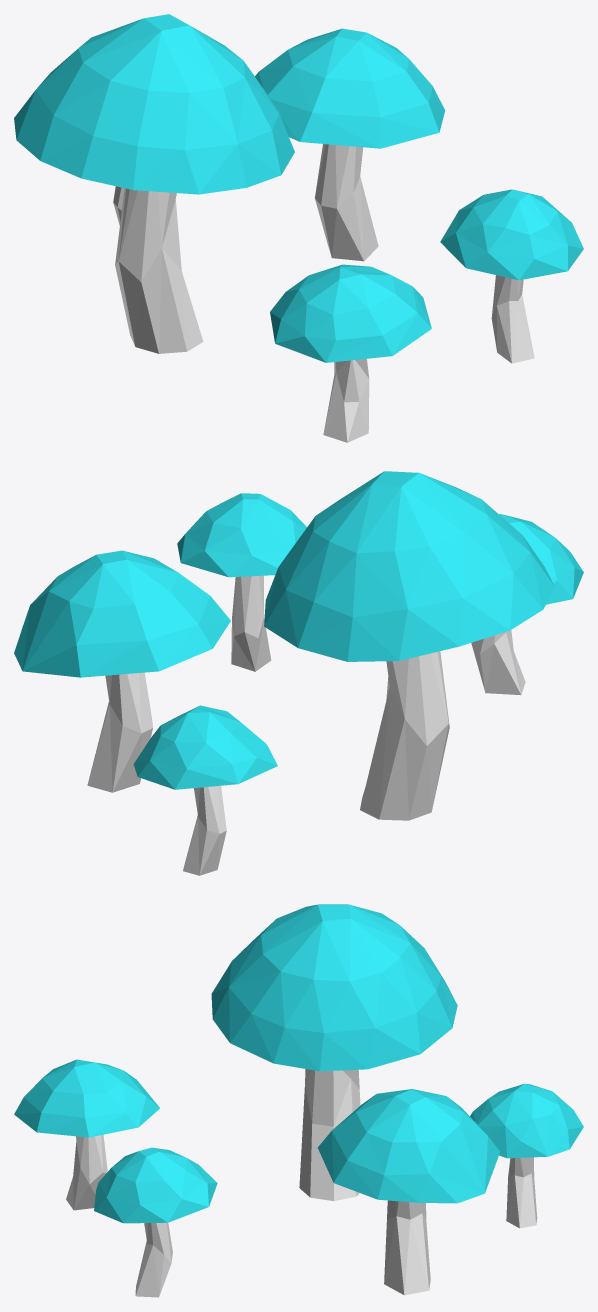
The model's file is Mushroom 01.fbx.
3 views of the same model, one above another, from view 1: azimuth 30°, elevation 25°; view 2: azimuth 150°, elevation 25°; view 3: azimuth 270°, elevation 25° (orthographic). The views are drawn at different scales.
Visible parts, largest first — view 1: Mushroom 01; view 2: Mushroom 01; view 3: Mushroom 01.
Part boxes in pixels (<box>): Mushroom 01: <box>14,14,583,442</box>; Mushroom 01: <box>14,471,583,875</box>; Mushroom 01: <box>14,904,583,1297</box>.
Bounding box in the file's own units: 51.92 × 35.46 × 66.1.
